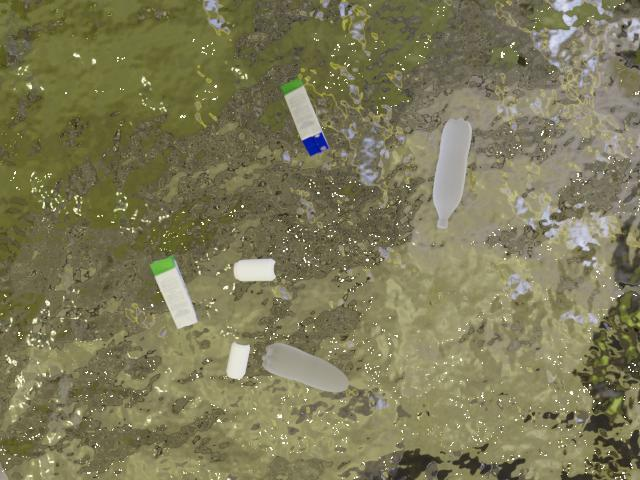Metal: (218, 247, 292, 294), (219, 322, 258, 396)
Plastic: (416, 109, 494, 232), (258, 340, 356, 402)
Trash: (272, 60, 338, 169), (140, 245, 210, 335)
